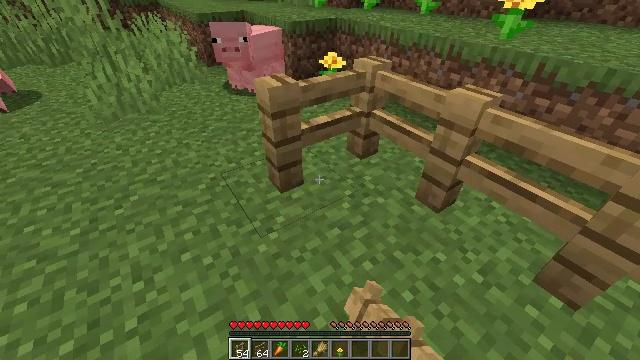pig: (210, 22, 283, 94)
